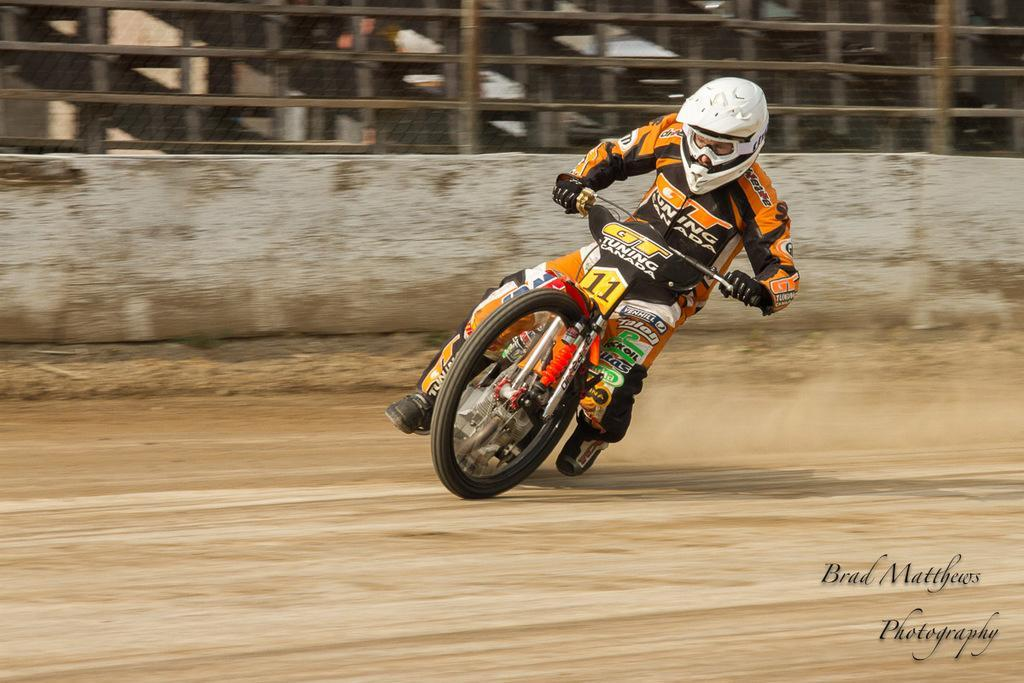helmet: (675, 75, 771, 195)
